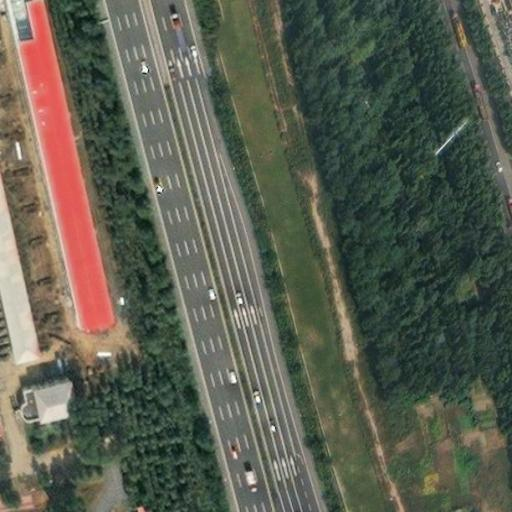building: (6, 362, 68, 405)
